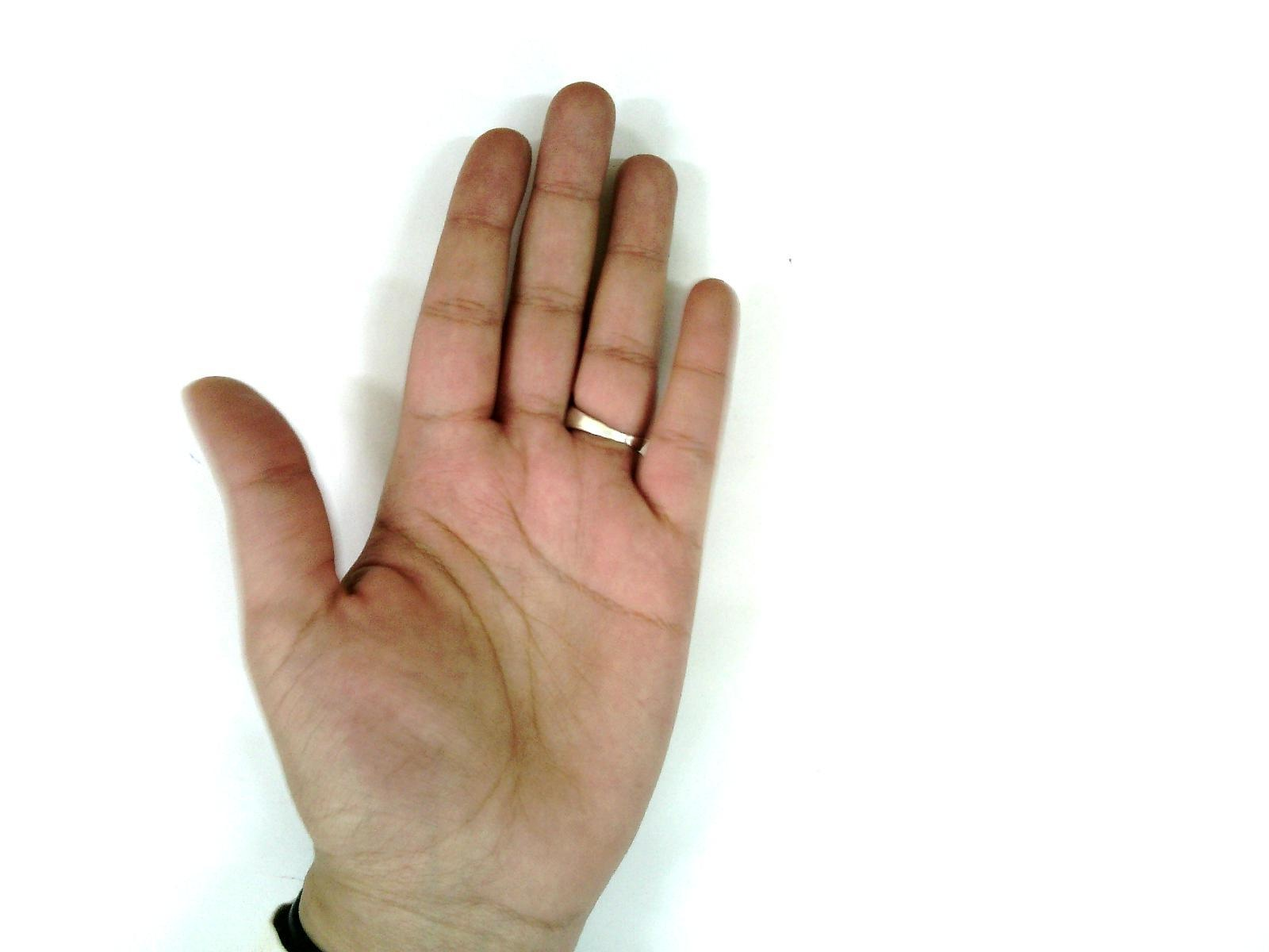open_palm: (180, 80, 744, 937)
